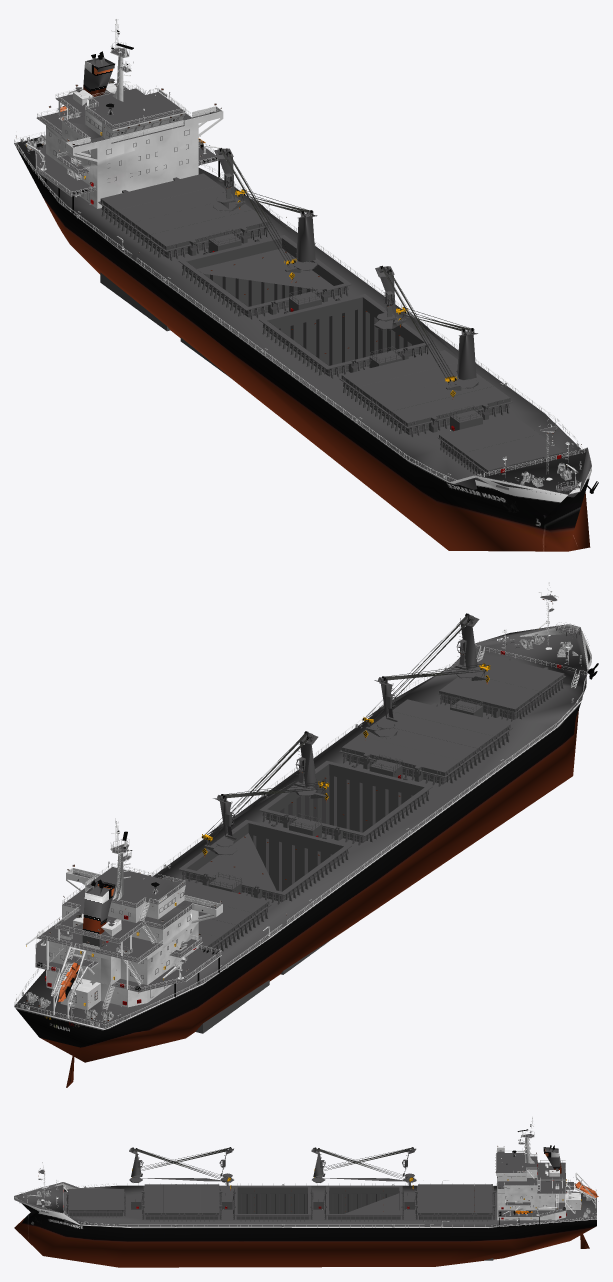
File: bulker.glb
The picture shows the model from 3 angles, top to bottom: view 1: azimuth 30°, elevation 25°; view 2: azimuth 150°, elevation 25°; view 3: azimuth 270°, elevation 25°; orthographic projection. The views are drawn at different scales.
Visible parts, largest first — view 1: polymsh441__0; view 2: polymsh441__0; view 3: polymsh441__0.
Boxes of the visible parts, left/top/right/bottom form: polymsh441__0: left=14, top=19, right=598, bottom=551; polymsh441__0: left=14, top=582, right=598, bottom=1087; polymsh441__0: left=14, top=1117, right=598, bottom=1267.
Size of the model in its own units: 165 by 236 by 946.
1 material, 1 textured.
